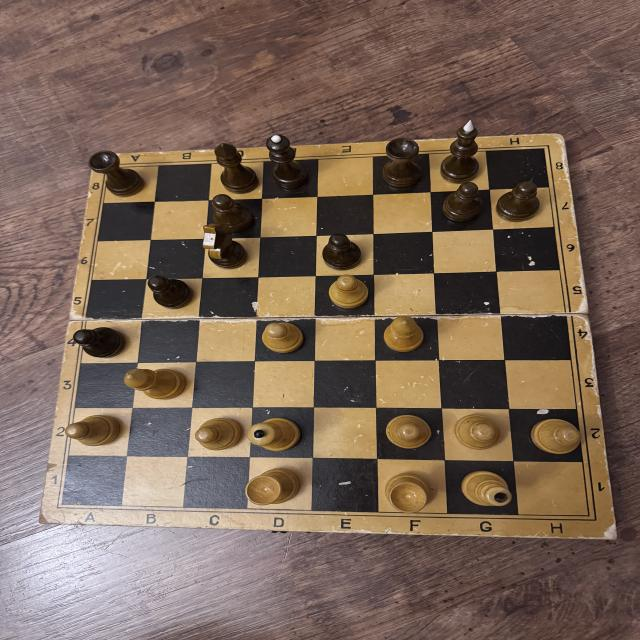black-bishop: (210, 142, 262, 194)
black-king: (440, 119, 480, 182)
black-knight: (197, 223, 248, 269)
black-pawn: (72, 324, 128, 361), (209, 192, 255, 235), (496, 181, 543, 222), (145, 274, 196, 310), (443, 183, 487, 221), (320, 232, 364, 270)
black-queen: (263, 132, 311, 191)
black-rook: (88, 149, 144, 197), (380, 137, 427, 192)
white-bishop: (123, 368, 188, 400), (381, 314, 426, 354)
white-king: (461, 470, 512, 508)
white-pawn: (61, 415, 121, 446), (529, 418, 581, 453), (457, 413, 501, 450), (195, 417, 242, 451), (385, 415, 431, 449), (259, 322, 304, 353), (328, 274, 368, 308)
white-queen: (247, 417, 301, 453)
white-rook: (382, 473, 432, 514), (247, 469, 301, 505)
